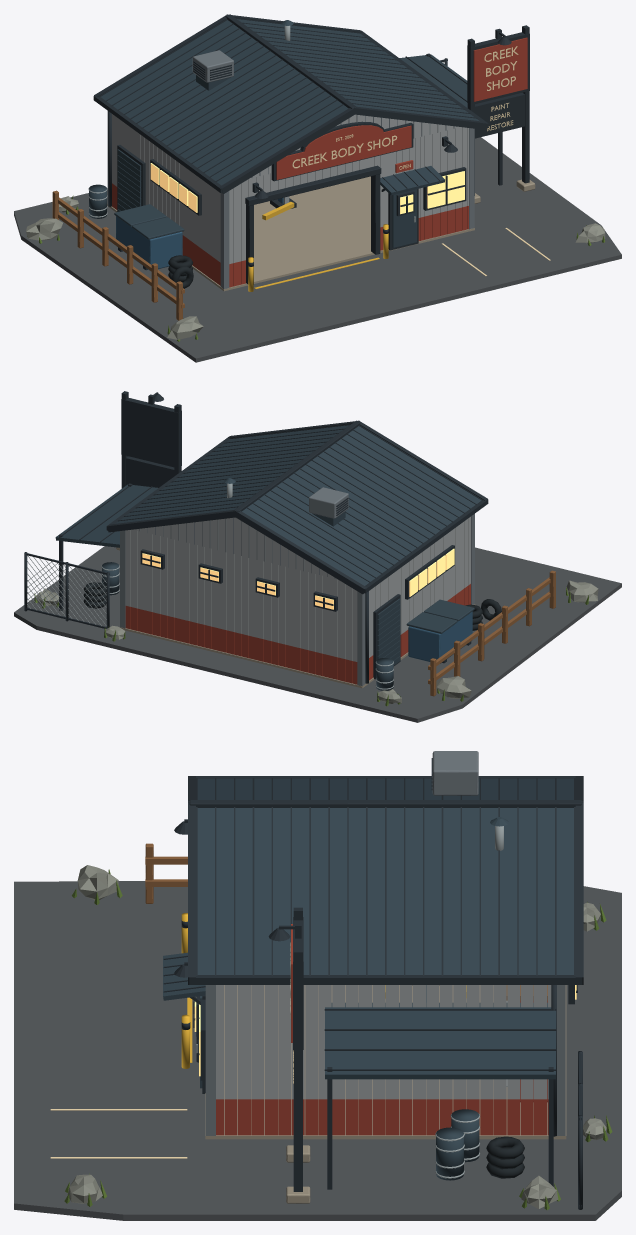
The model's file is car_body_shop.glb.
3 views of the same model, one above another, from view 1: azimuth 30°, elevation 25°; view 2: azimuth 150°, elevation 25°; view 3: azimuth 270°, elevation 25° (orthographic). The views are drawn at different scales.
Parts seen in each view (by area): view 1: Metalwork, Forecourt, Cladding, RedPanels, Landscaping, SignsAndMarkings, Workshop, Windows; view 2: Metalwork, Cladding, Forecourt, RedPanels, Landscaping, Workshop, Windows; view 3: Metalwork, Forecourt, Cladding, RedPanels, Landscaping, SignsAndMarkings, Workshop.
Boxes of the visible parts, x1=… form: Metalwork: x1=88, y1=14, x2=529, y2=284; Forecourt: x1=14, y1=137, x2=621, y2=362; Cladding: x1=107, y1=50, x2=474, y2=288; RedPanels: x1=112, y1=37, x2=527, y2=287; Landscaping: x1=26, y1=190, x2=605, y2=341; SignsAndMarkings: x1=248, y1=46, x2=550, y2=291; Workshop: x1=116, y1=197, x2=283, y2=288; Windows: x1=150, y1=163, x2=464, y2=214; Metalwork: x1=24, y1=391, x2=488, y2=690; Cladding: x1=120, y1=487, x2=474, y2=686; Forecourt: x1=14, y1=546, x2=621, y2=722; RedPanels: x1=125, y1=584, x2=470, y2=684; Landscaping: x1=34, y1=570, x2=598, y2=706; Workshop: x1=83, y1=582, x2=501, y2=663; Windows: x1=142, y1=548, x2=454, y2=609; Metalwork: x1=163, y1=758, x2=583, y2=1209; Forecourt: x1=14, y1=881, x2=621, y2=1220; Cladding: x1=205, y1=751, x2=565, y2=1135; RedPanels: x1=216, y1=924, x2=548, y2=1135; Landscaping: x1=64, y1=843, x2=612, y2=1210; SignsAndMarkings: x1=50, y1=913, x2=466, y2=1158; Workshop: x1=426, y1=985, x2=524, y2=1178.
Bounding box in the file's own units: 18.3 × 6.6 × 13.9.
